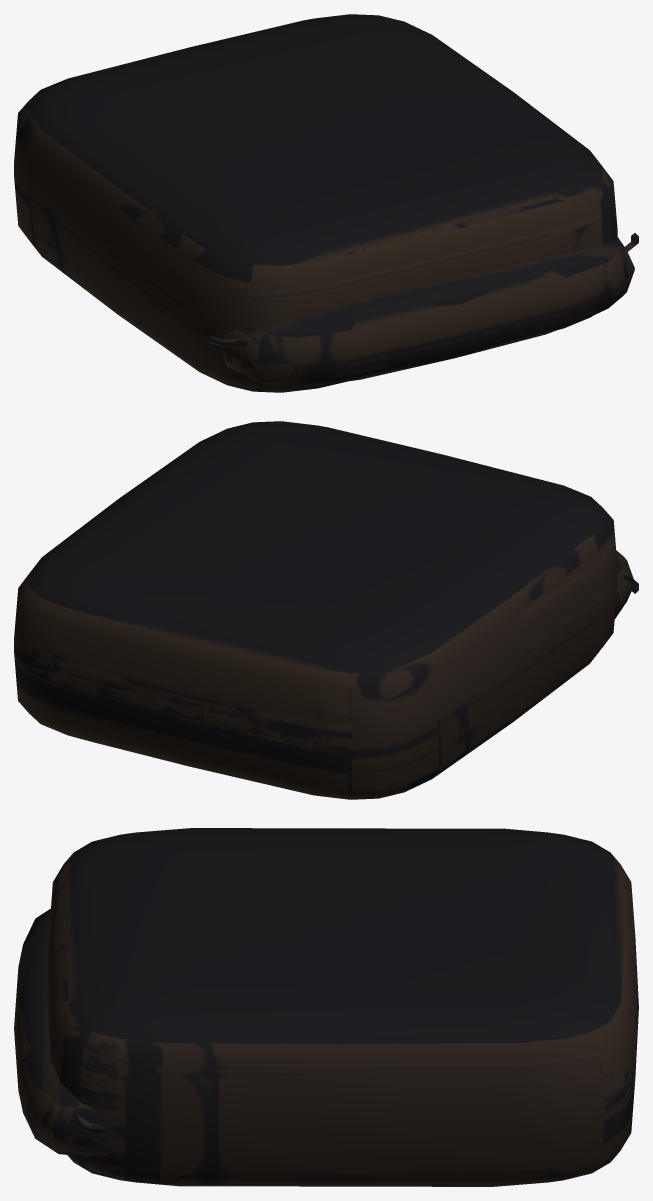
Rendered from Tano_BotaIzq.fbx.
The picture shows the model from 3 angles, top to bottom: view 1: azimuth 30°, elevation 25°; view 2: azimuth 150°, elevation 25°; view 3: azimuth 270°, elevation 25°; orthographic projection. The views are drawn at different scales.
Visible parts, largest first — view 1: Tano_BotaIzq; view 2: Tano_BotaIzq; view 3: Tano_BotaIzq.
Boxes of the visible parts, x1,y1,x2,y2 form: Tano_BotaIzq: [14, 14, 638, 392]; Tano_BotaIzq: [14, 421, 638, 799]; Tano_BotaIzq: [14, 828, 638, 1186].
Size of the model in its own units: 1.27 by 0.4549 by 1.43.
